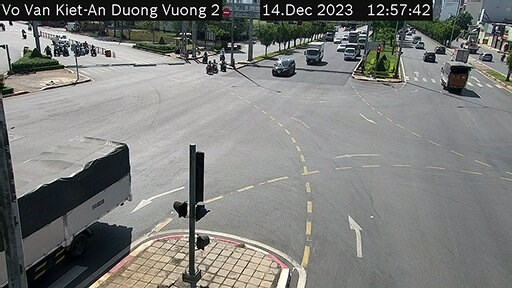car: (272, 57, 291, 82), (342, 46, 356, 65)
truck: (21, 130, 134, 285), (441, 58, 465, 91), (305, 42, 326, 65)
